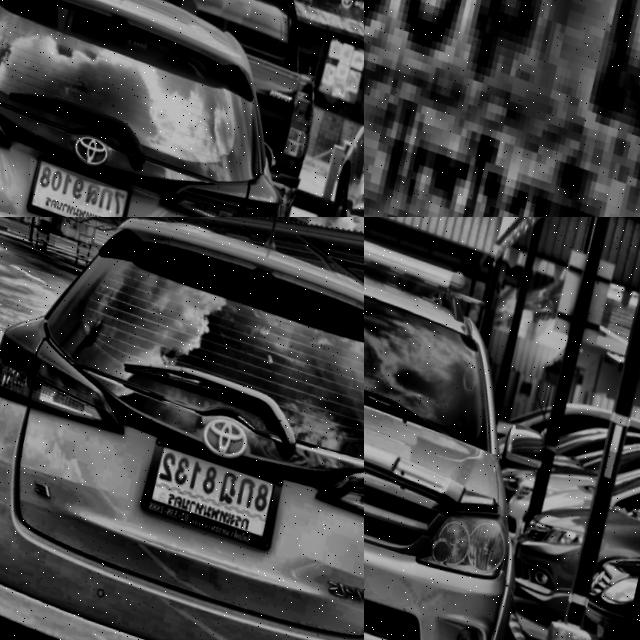license-plate: (364, 0, 640, 217), (125, 415, 294, 552), (13, 138, 135, 217)
